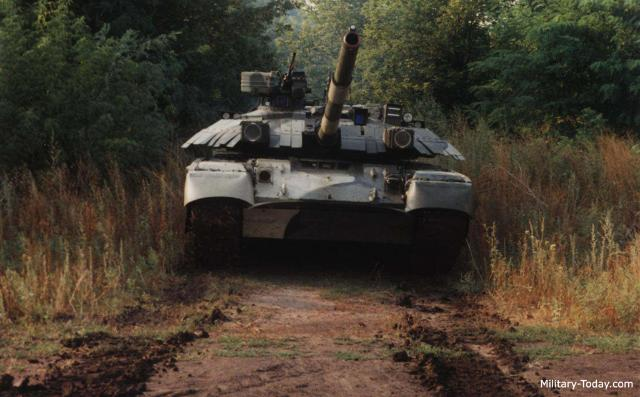tank: (188, 70, 468, 257)
